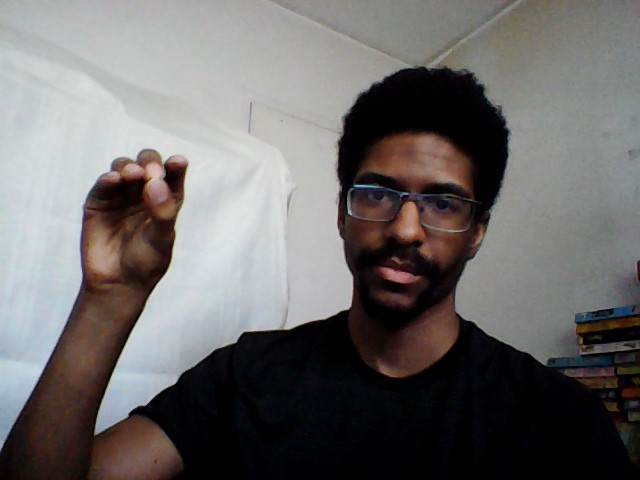o: (76, 144, 190, 283)
